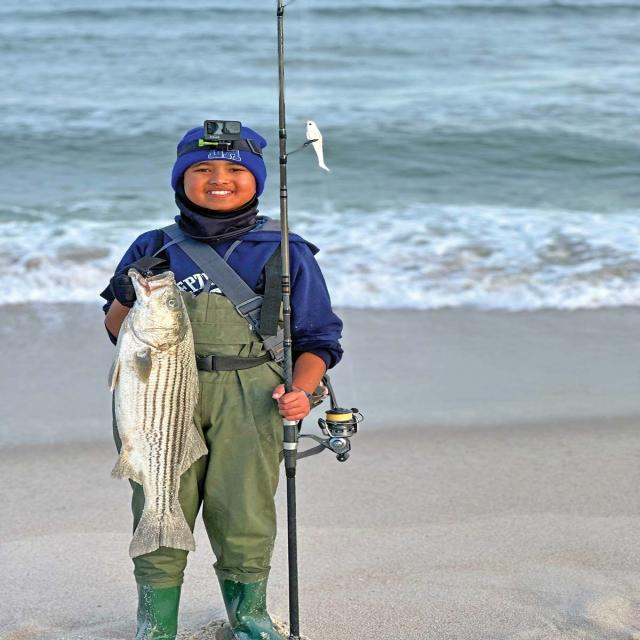Bass - Striped: (110, 270, 207, 557)
